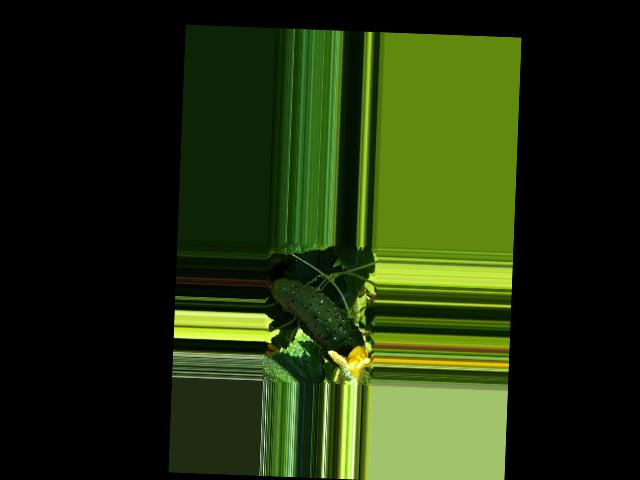cucumber: (262, 276, 367, 367)
